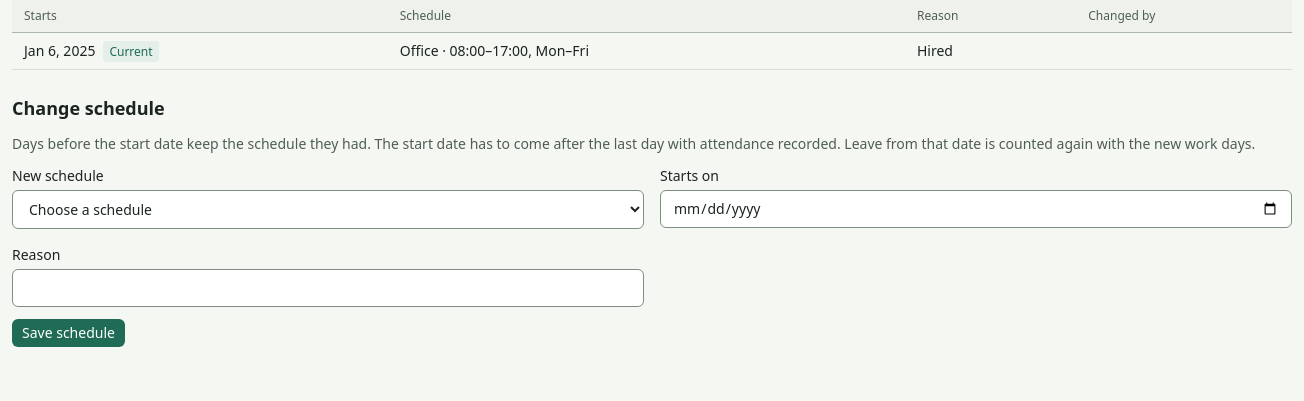
Scenario: ScheduleTab › offers only schedules in use and sends the move
Expected: the cell "Office · 08:00–17:00, Mon–Fri" is shown, [388,32,893,70]
Select "Six days · 09:00–18:00, Mon–Sat" in the dropdown labelled "New schedule". click: (328, 210)
box: [12,190,644,229]
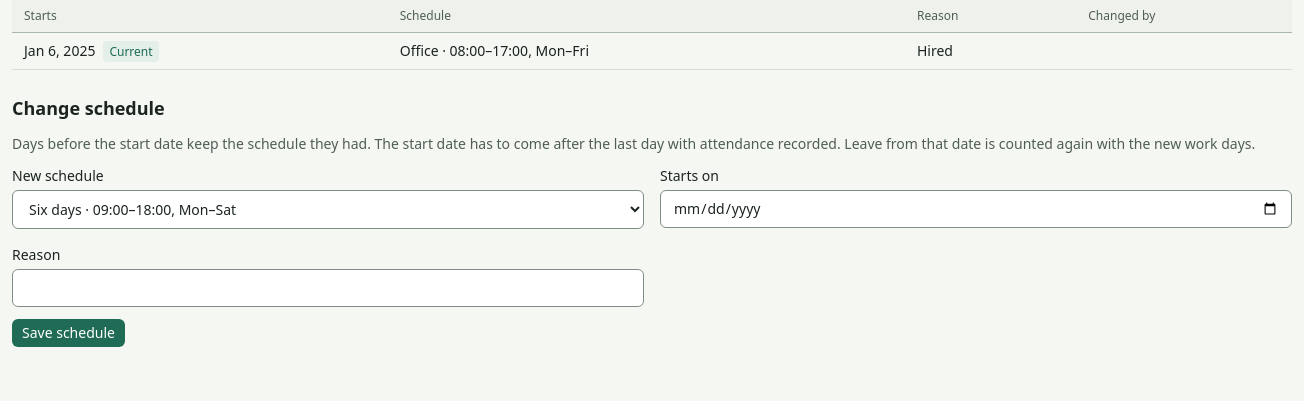
Type "2026-10-12" into the date field labelled "Starts on". click: (976, 209)
box: [660,190,1292,228]
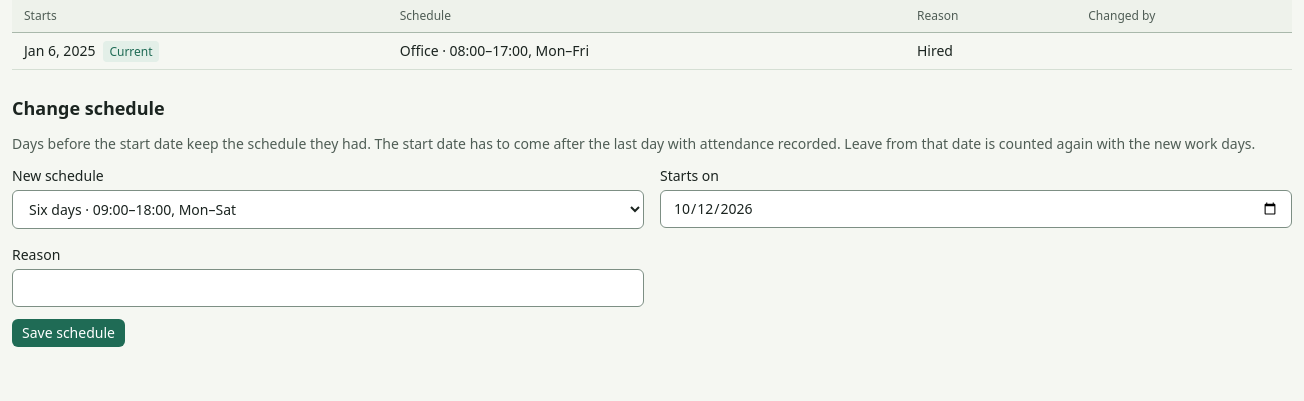
Type "Moved to the store" into the field labelled "Reason". click: (328, 288)
box: [12,269,644,307]
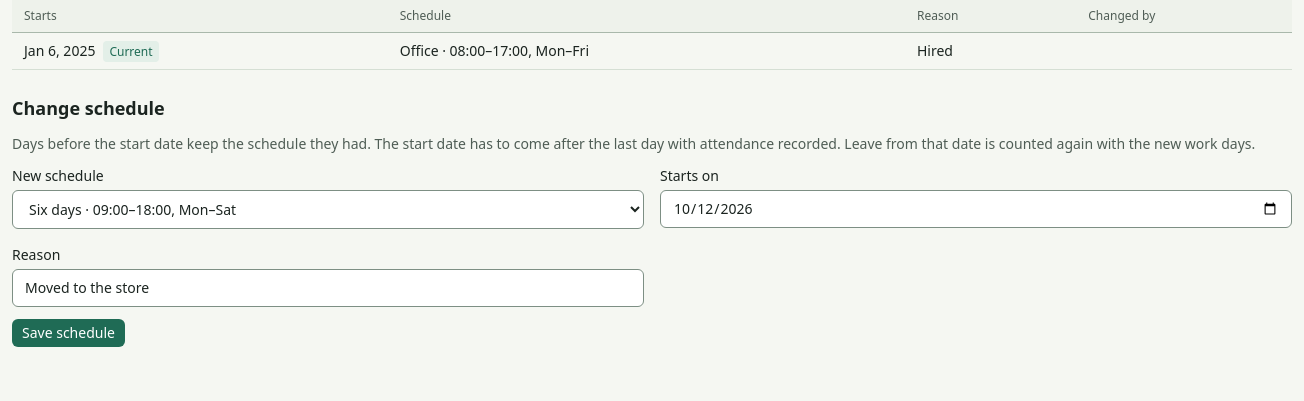
Click the button "Save schedule". click: (68, 333)
box: [12,319,125,347]
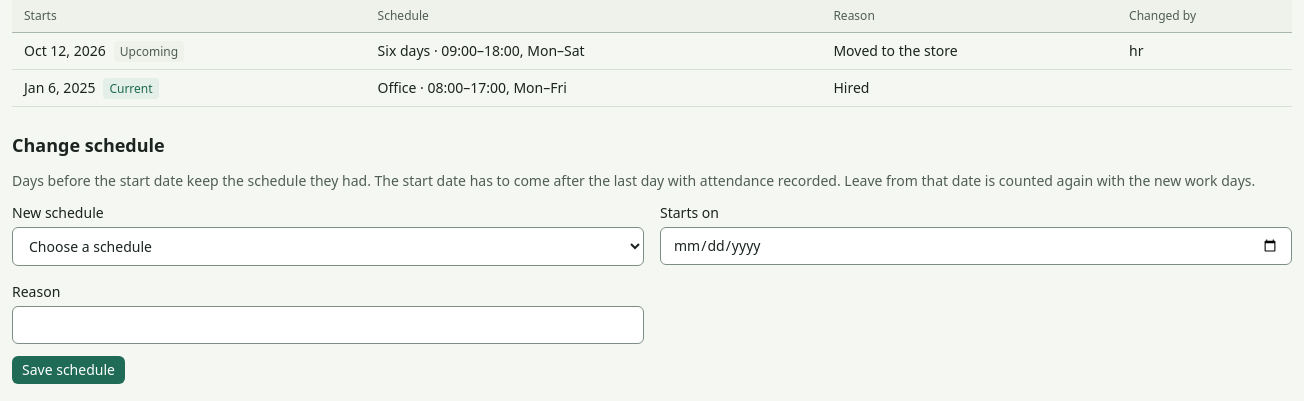
Expected: the cell "Six days · 09:00–18:00, Mon–Sat" is shown, [366,32,809,70]
